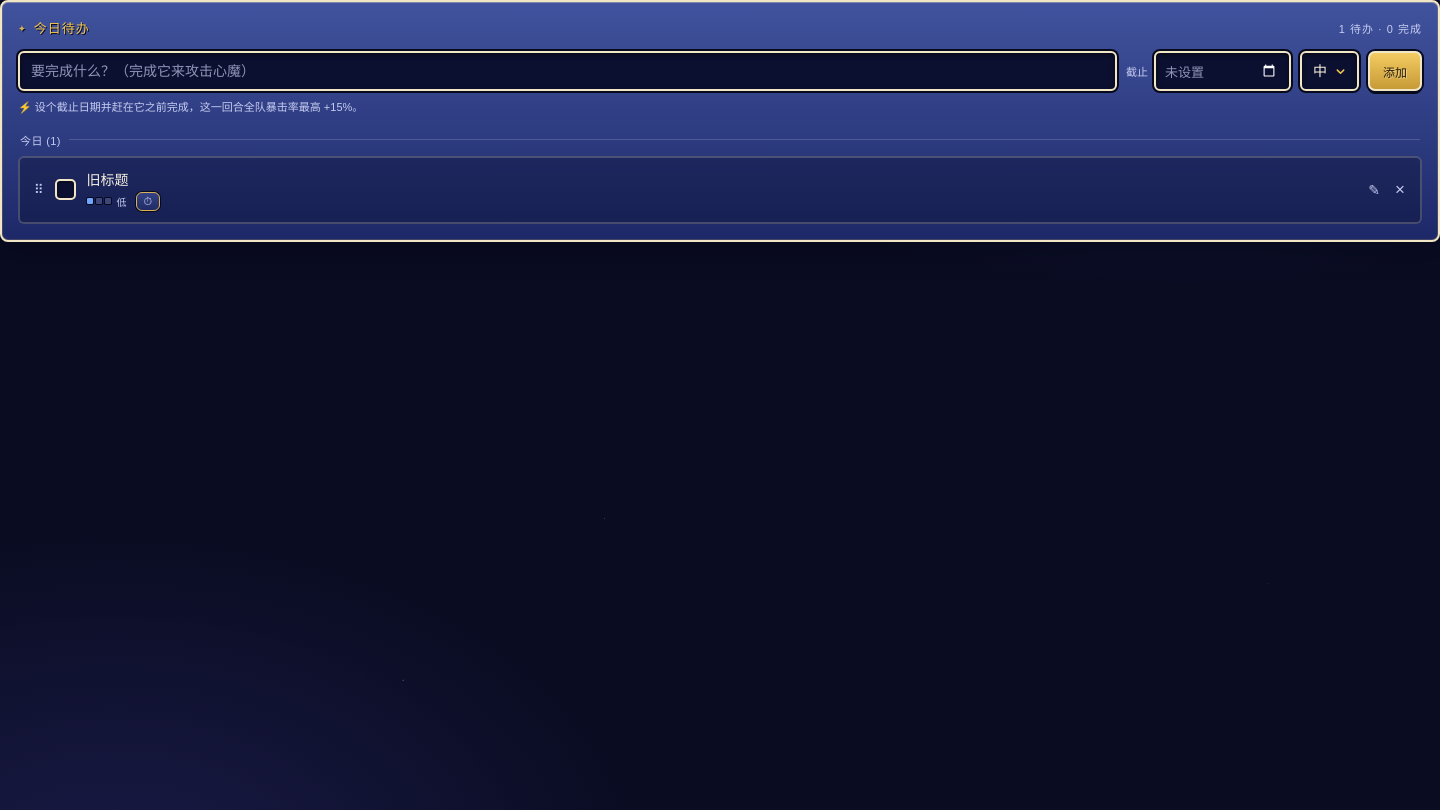
TodoPanel interactions › edits a task inline
The image size is (1440, 810).
Click the button named "编辑" at (1374, 190), box top-left (1366, 182), bottom-right (1382, 198)
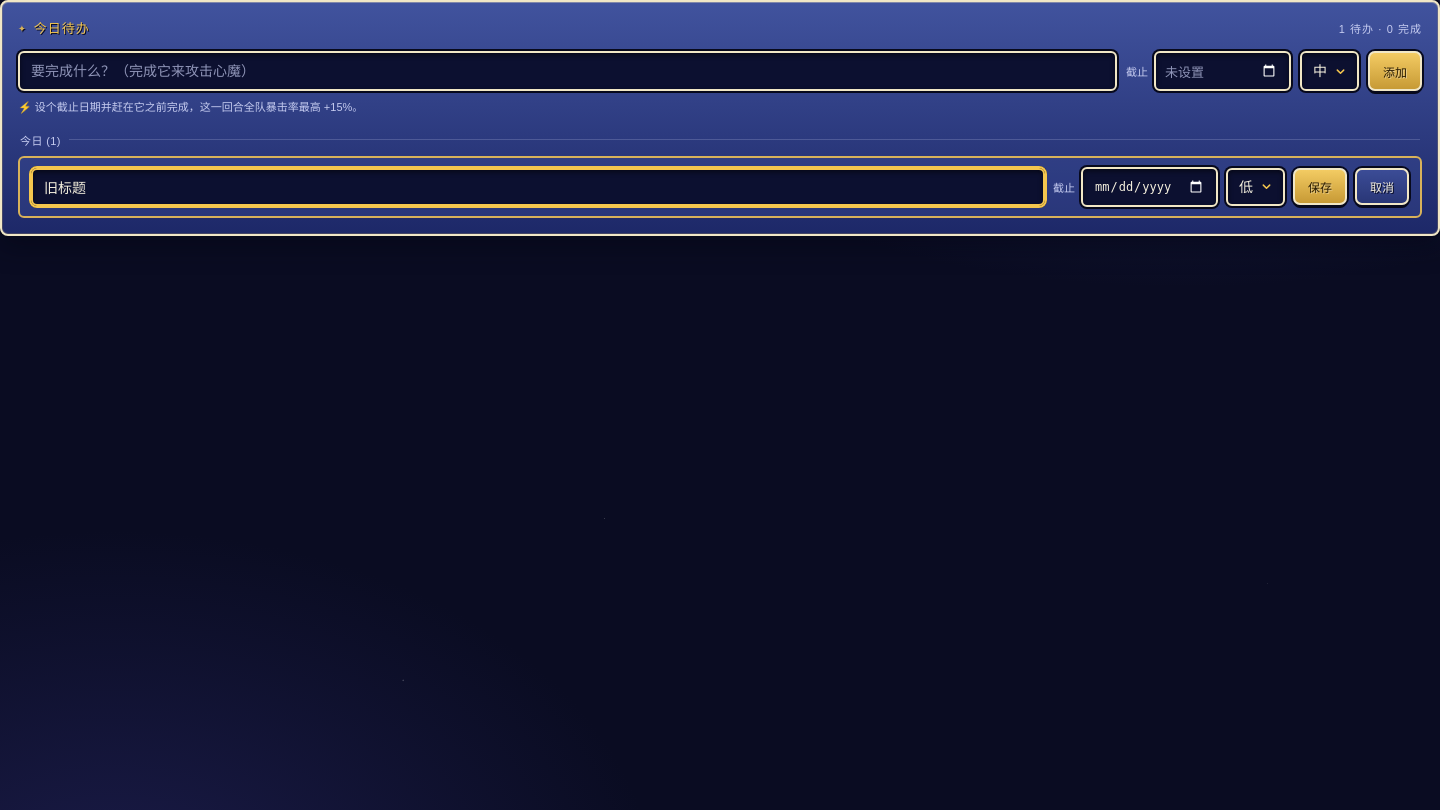
Replace the text in the field named "编辑标题" with "新标题" at (538, 186), box top-left (31, 168), bottom-right (1045, 206)
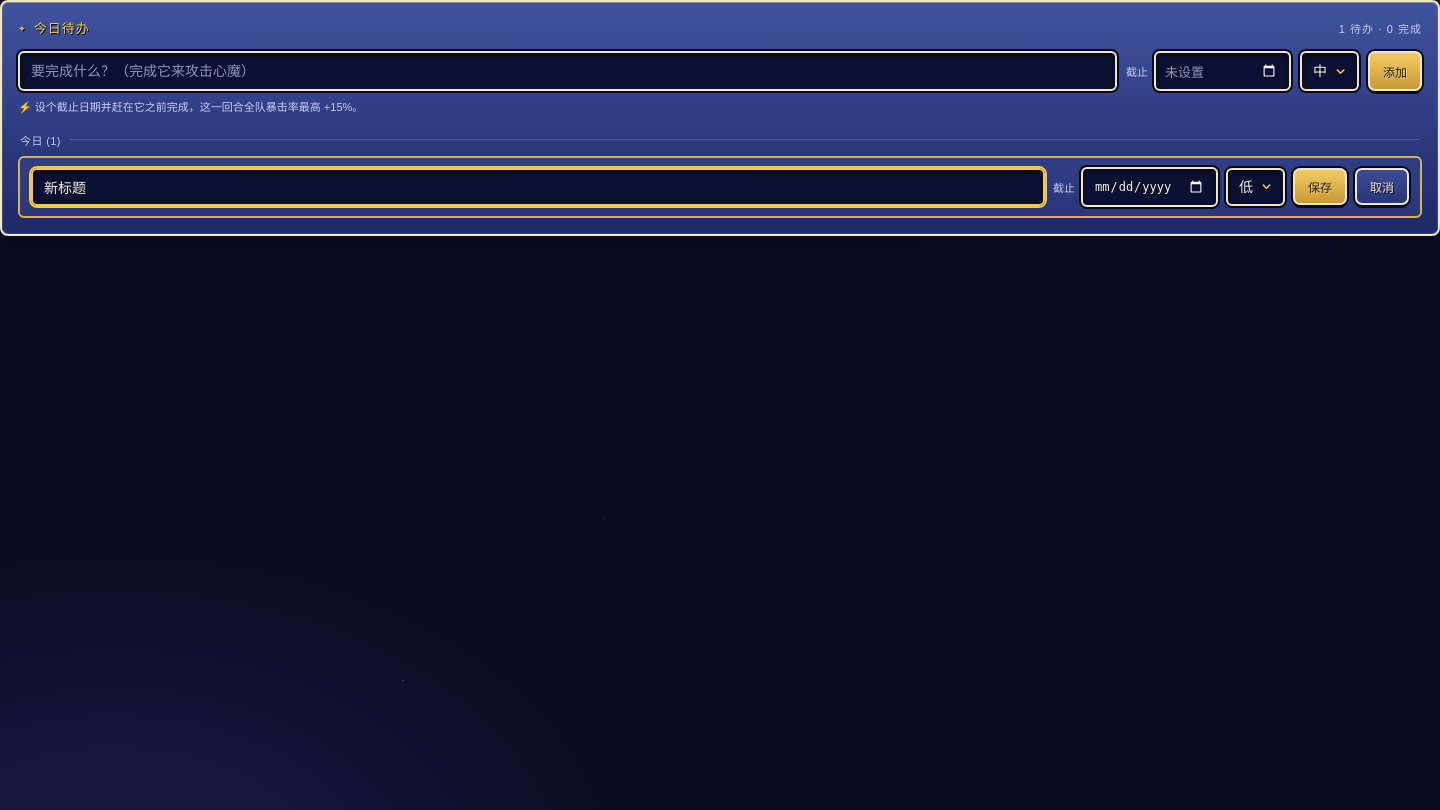
Click the button "保存" at (1320, 186), box top-left (1293, 168), bottom-right (1347, 205)
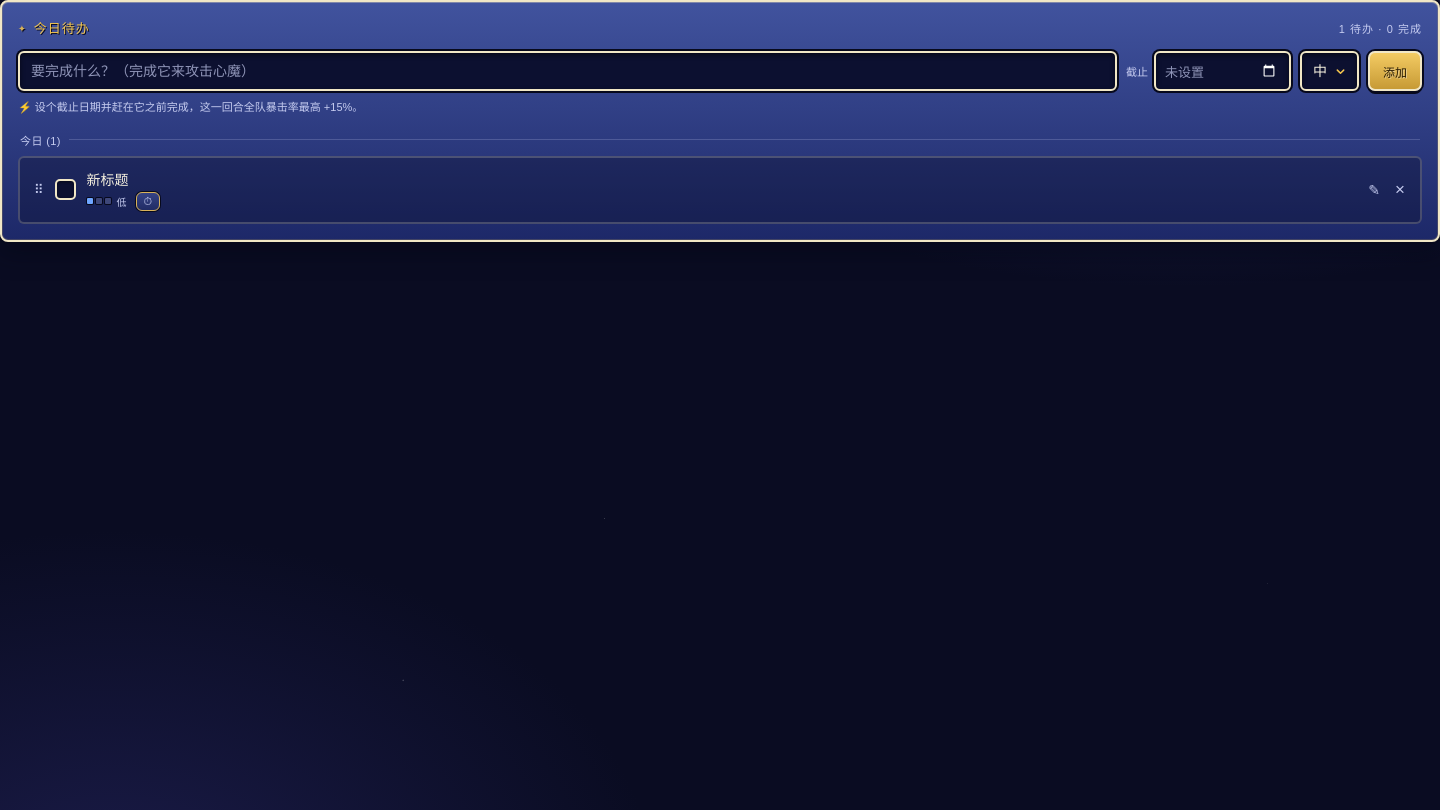
Expected: the text "旧标题" is not shown
Now the text "新标题" is shown, box top-left (86, 172), bottom-right (128, 188)
